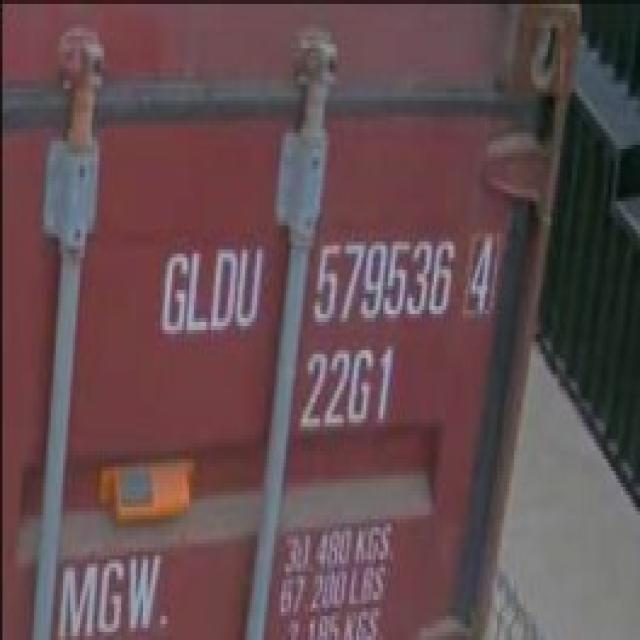dv: (463, 228, 501, 328)
owner: (159, 237, 266, 336)
serial: (310, 236, 457, 331)
size: (294, 339, 396, 436)
